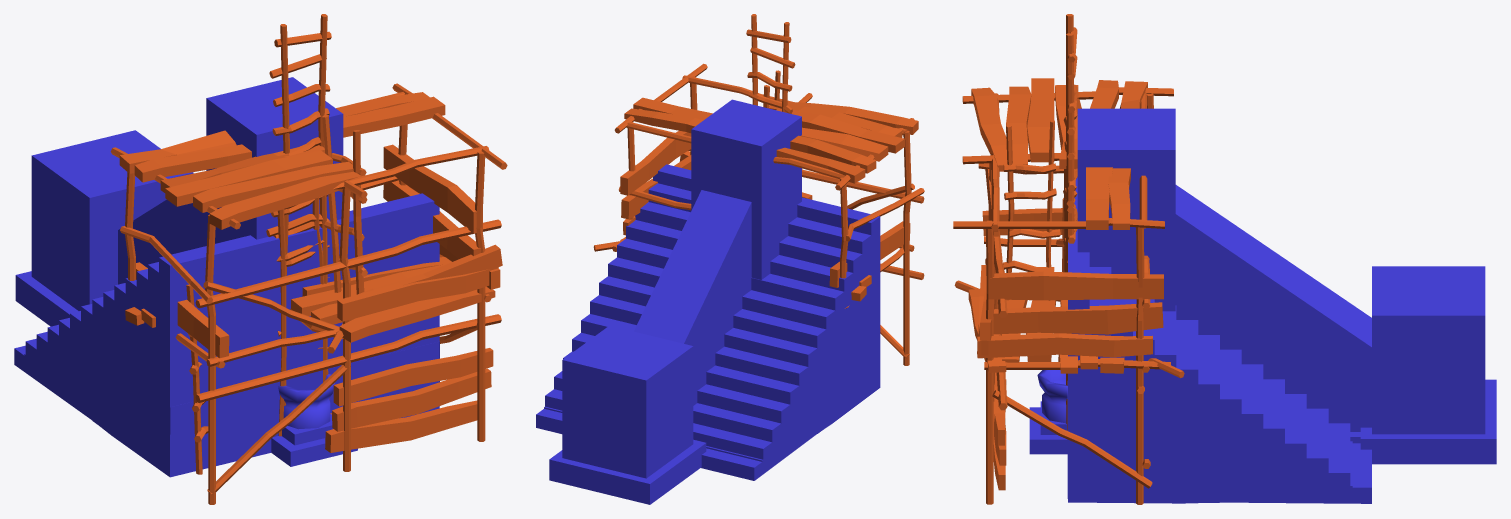
The model's file is Escaleras.fbx.
The picture shows the model from 3 angles, left to right: view 1: azimuth 30°, elevation 25°; view 2: azimuth 150°, elevation 25°; view 3: azimuth 270°, elevation 25°; orthographic projection. The views are drawn at different scales.
Visible parts, largest first — view 1: Wood_Platform, Stone_Stair_3x4x4, StairSideWayP1, StairSideWayP3.001, Wood_Stair_Tall, Stone_Stair_2x4x4, Rock_FlamePlace, Wood_Stair_Medium, Stone_Stair_1x2x4; view 2: Stone_Stair_3x4x4, StairSideWayP1, Wood_Platform, StairSideWayP3.001, Stone_Stair_2x4x4, Wood_Stair_Tall, Stone_Stair_1x2x4; view 3: StairSideWayP1, Wood_Platform, Stone_Stair_3x4x4, Stone_Stair_2x4x4, StairSideWayP3.001, Stone_Stair_1x2x4, Rock_FlamePlace, Wood_Stair_Tall.
Part boxes in pixels (x1,y1,x2,y2): Wood_Platform: (110,83,507,504); Stone_Stair_3x4x4: (14,193,439,477); StairSideWayP1: (15,77,343,456); StairSideWayP3.001: (118,77,340,284); Wood_Stair_Tall: (269,14,331,405); Stone_Stair_2x4x4: (14,330,169,475); Rock_FlamePlace: (271,373,357,466); Wood_Stair_Medium: (266,197,331,436); Stone_Stair_1x2x4: (92,341,439,476); Stone_Stair_3x4x4: (536,164,880,479); StairSideWayP1: (549,110,801,504); Wood_Platform: (593,63,924,365); StairSideWayP3.001: (634,99,801,405); Stone_Stair_2x4x4: (536,275,880,480); Wood_Stair_Tall: (746,14,795,113); Stone_Stair_1x2x4: (817,349,880,433); StairSideWayP1: (1077,112,1496,464); Wood_Platform: (953,78,1184,504); Stone_Stair_3x4x4: (1068,177,1371,502); Stone_Stair_2x4x4: (1068,367,1371,503); StairSideWayP3.001: (1077,108,1371,436); Stone_Stair_1x2x4: (1067,381,1219,502); Rock_FlamePlace: (1029,370,1067,454); Wood_Stair_Tall: (1063,14,1078,404).
Size of the model in its own units: 459 by 602 by 715.
